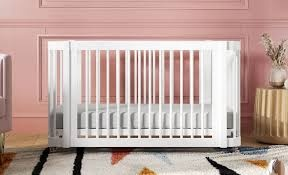crib: (48, 40, 239, 147)
